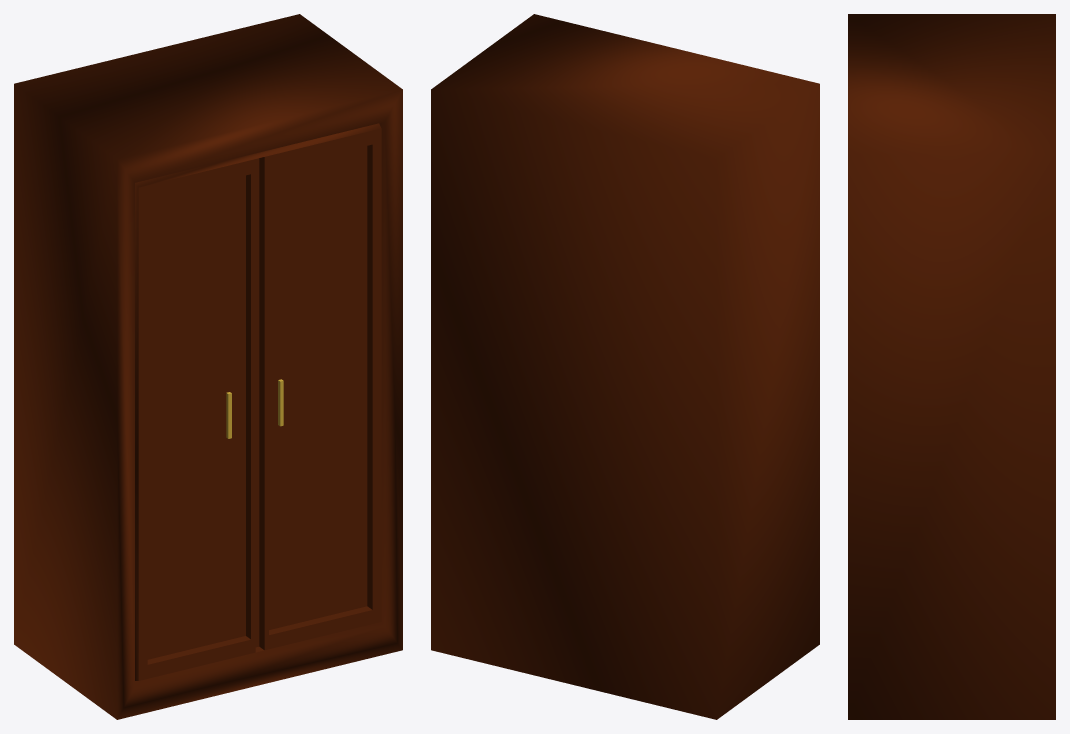
Rendered from Blockout_Dresser_06.fbx.
3 renders of one model, left to right at view 1: azimuth 30°, elevation 25°; view 2: azimuth 150°, elevation 25°; view 3: azimuth 270°, elevation 25°, orthographic.
Parts seen in each view (by area): view 1: pCube5; view 2: pCube5; view 3: pCube5.
Boxes of the visible parts, x1,y1,x2,y2 form: pCube5: (14,14,402,719); pCube5: (431,14,819,719); pCube5: (848,14,1055,719).
Bounding box in the file's own units: 80 × 150 × 50.
